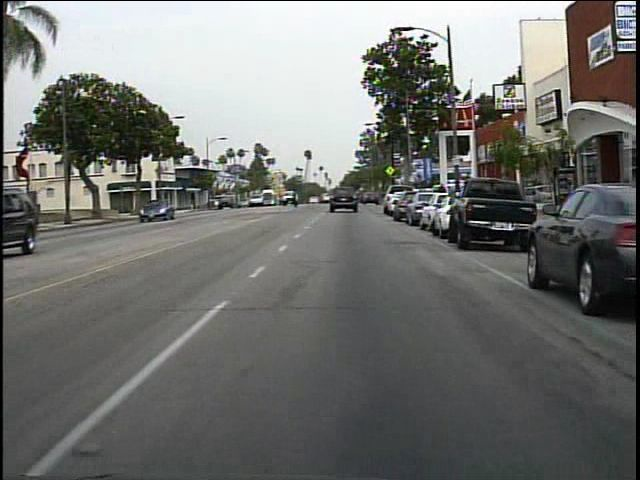person: (432, 179, 452, 217), (288, 185, 303, 213)
